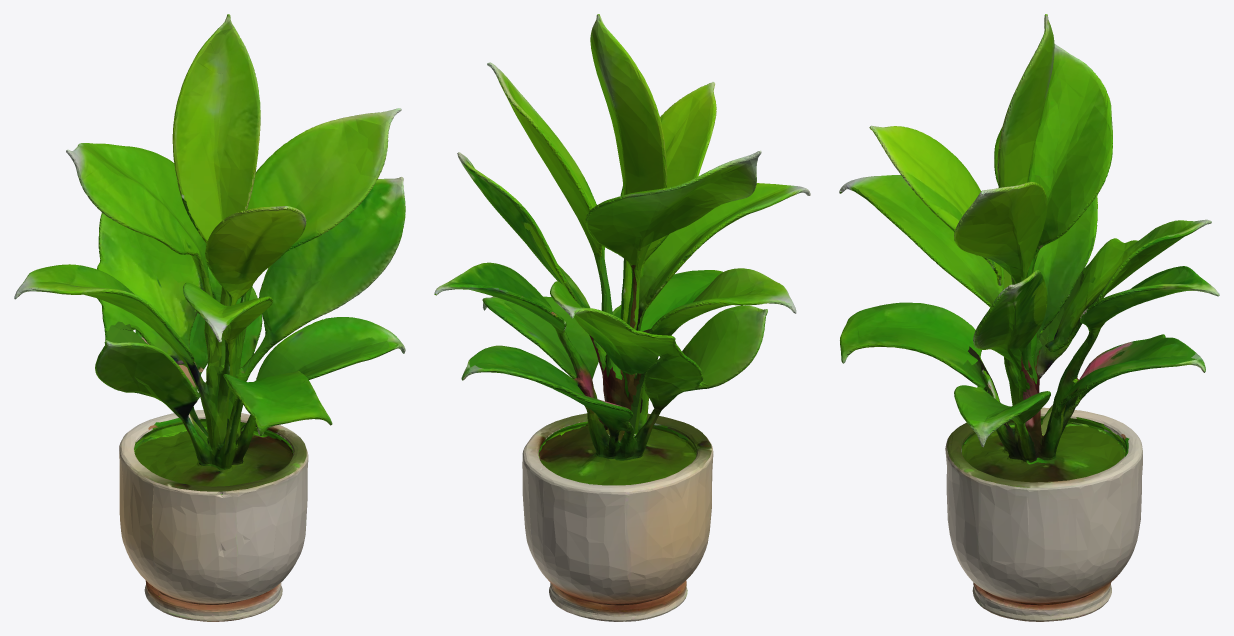
The model's file is biomechanical-growth-planter-generated-2026-04-18T02-10-29-603Z.medium.glb.
The picture shows the model from 3 angles, left to right: view 1: azimuth 30°, elevation 25°; view 2: azimuth 150°, elevation 25°; view 3: azimuth 270°, elevation 25°; orthographic projection. The views are drawn at different scales.
Visible parts, largest first — view 1: temp_mesh.ply; view 2: temp_mesh.ply; view 3: temp_mesh.ply.
Part boxes in pixels (<box>): temp_mesh.ply: <box>14,14,405,621</box>; temp_mesh.ply: <box>434,14,810,621</box>; temp_mesh.ply: <box>839,14,1219,621</box>.
Size of the model in its own units: 1.3 by 1.97 by 1.16.
1 material, 1 textured.
